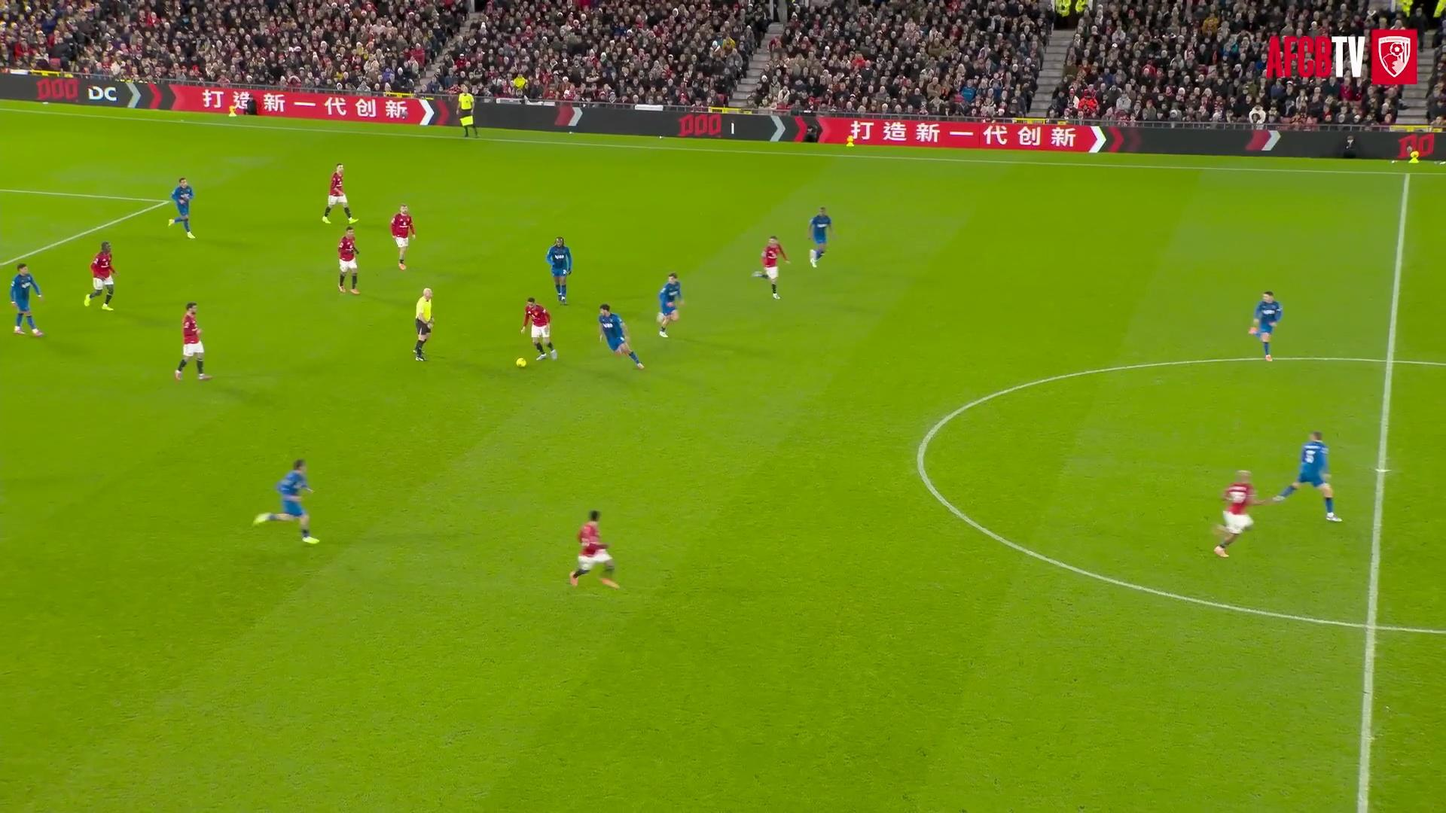football: (516, 358, 526, 367)
player: (1274, 432, 1339, 521), (253, 460, 319, 544), (1214, 470, 1264, 557), (569, 510, 619, 589), (598, 304, 643, 369), (175, 302, 211, 380), (10, 263, 43, 336), (1249, 291, 1282, 361), (521, 297, 557, 360), (753, 236, 790, 297), (322, 164, 358, 224), (84, 242, 114, 310), (546, 236, 572, 305), (657, 273, 682, 336), (168, 178, 194, 238), (390, 204, 414, 269), (337, 227, 358, 294), (810, 207, 833, 267)
referee: (414, 288, 432, 360), (457, 85, 477, 136)
